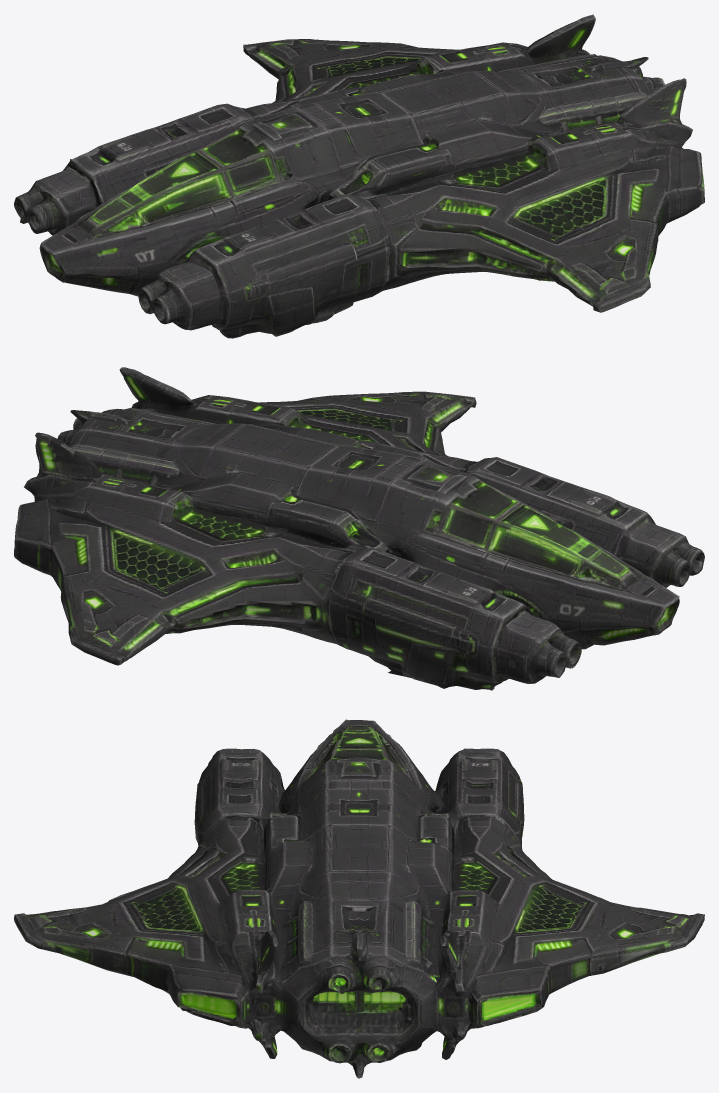
Rendered from slayer.glb.
3 renders of one model, top to bottom at view 1: azimuth 30°, elevation 25°; view 2: azimuth 150°, elevation 25°; view 3: azimuth 270°, elevation 25°, orthographic. The views are drawn at different scales.
Parts seen in each view (by area): view 1: Mesh0; view 2: Mesh0; view 3: Mesh0.
Boxes of the visible parts, x1,y1,x2,y2 form: Mesh0: [14, 14, 704, 338]; Mesh0: [14, 367, 704, 690]; Mesh0: [14, 719, 704, 1078].
Bounding box in the file's own units: 1.87 × 0.4948 × 1.91.
Materials: 1 (1 with a texture image).
